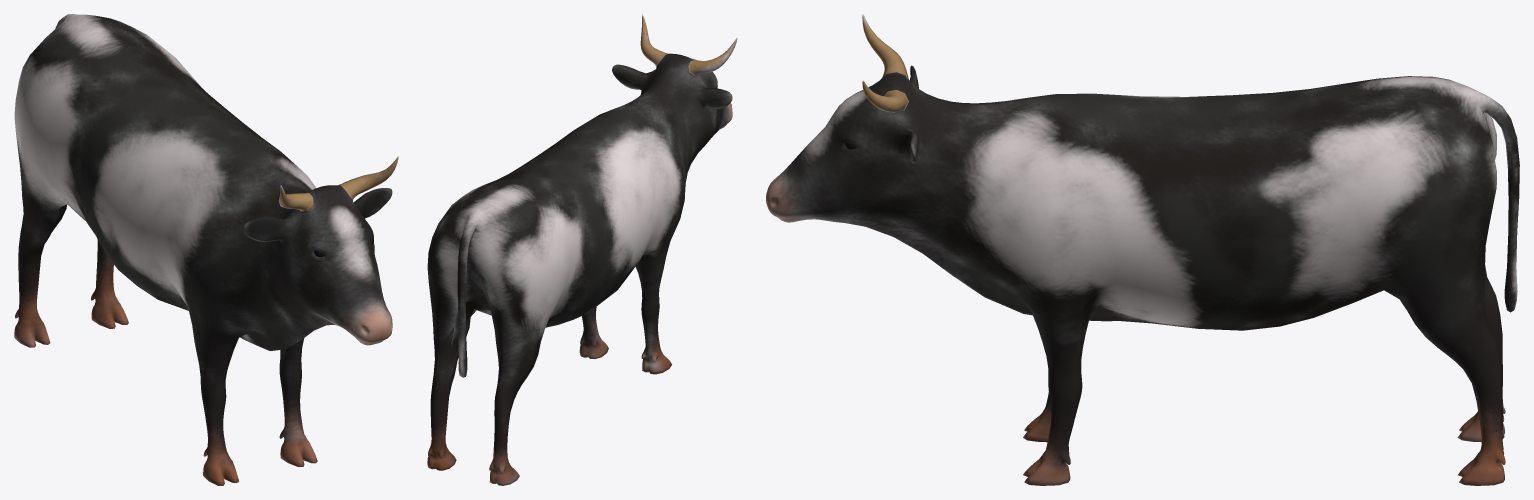
Rendered from cow.fbx.
3 renders of one model, left to right at view 1: azimuth 30°, elevation 25°; view 2: azimuth 150°, elevation 25°; view 3: azimuth 270°, elevation 25°, orthographic. The views are drawn at different scales.
Visible parts, largest first — view 1: Cow_Base; view 2: Cow_Base; view 3: Cow_Base.
Part boxes in pixels (x1,y1,x2,y2): Cow_Base: [14, 14, 398, 485]; Cow_Base: [427, 14, 737, 485]; Cow_Base: [766, 14, 1519, 485].
Size of the model in its own units: 65.97 by 145 by 242.
3 materials, 3 textured.
